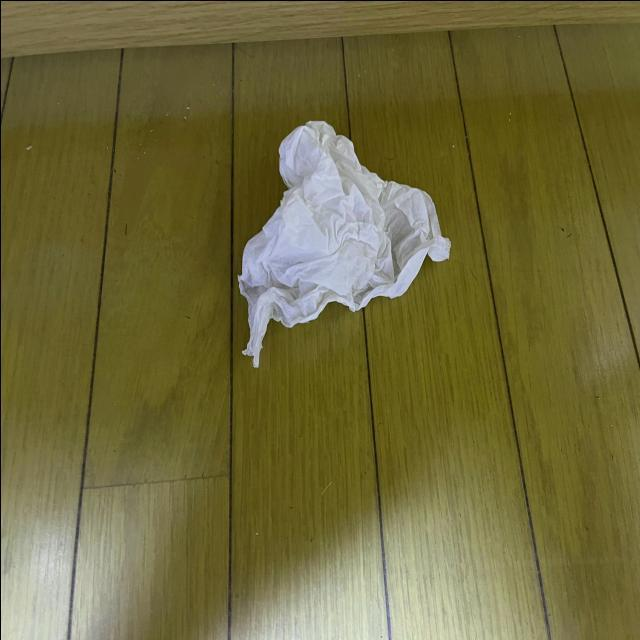Paper: (219, 121, 449, 371)
